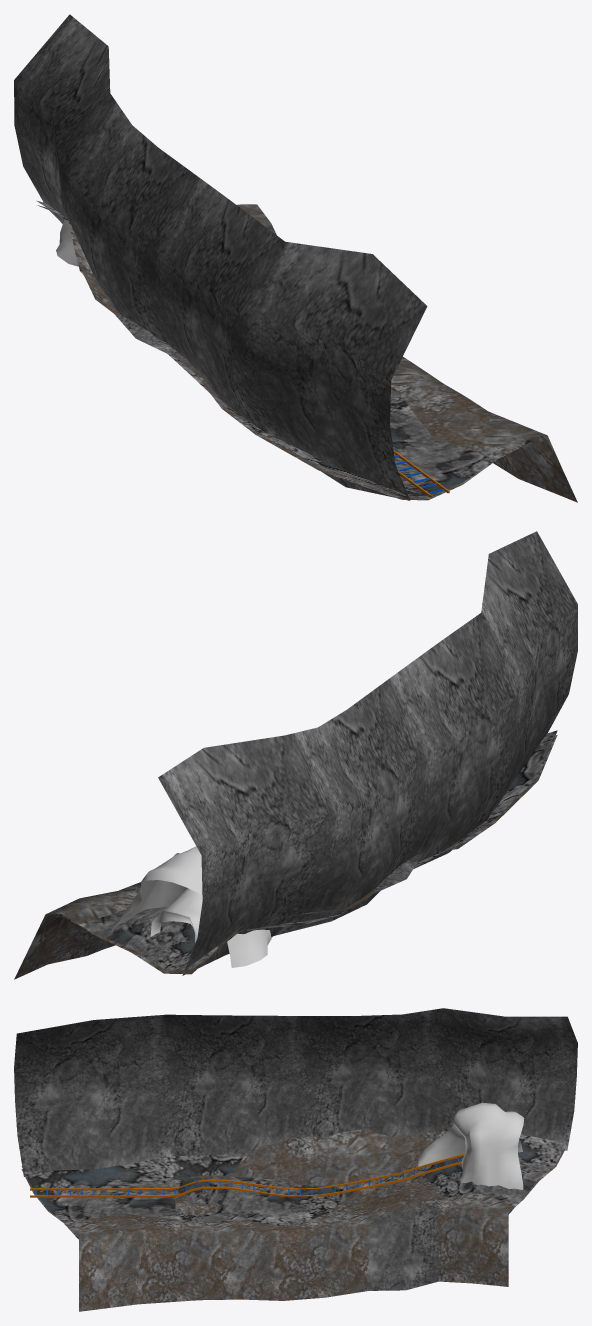
Rendered from Mine Cave.fbx.
3 views of the same model, one above another, from view 1: azimuth 30°, elevation 25°; view 2: azimuth 150°, elevation 25°; view 3: azimuth 270°, elevation 25° (orthographic). The views are drawn at different scales.
Parts seen in each view (by area): view 1: mine_cave, mine_cave2; view 2: mine_cave, mine_cave2, Cave_Entrance; view 3: mine_cave, mine_cave2, Cave_Entrance, props_track.
Boxes of the visible parts, x1,y1,x2,y2 form: mine_cave: (14, 14, 532, 500); mine_cave2: (37, 204, 577, 502); mine_cave: (61, 531, 577, 975); mine_cave2: (14, 735, 557, 979); Cave_Entrance: (111, 846, 272, 967); mine_cave: (14, 1008, 577, 1238); mine_cave2: (21, 1128, 565, 1311); Cave_Entrance: (418, 1102, 524, 1189); props_track: (30, 1153, 464, 1197).
Size of the model in its own units: 1047 by 1074 by 2427.
